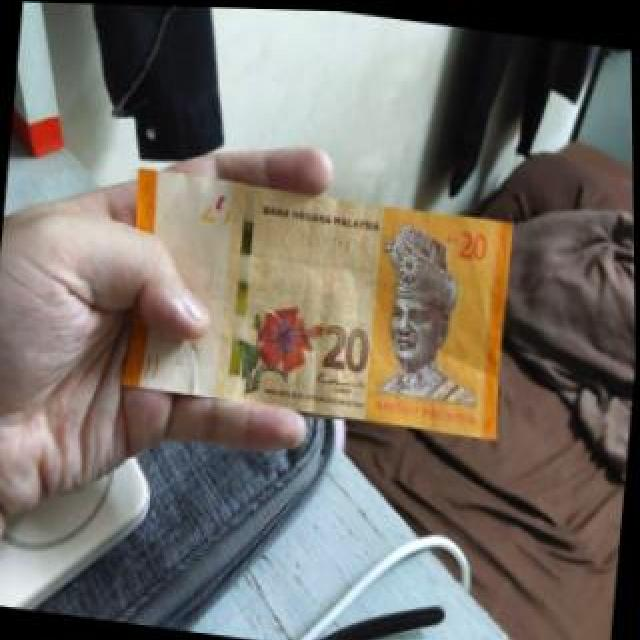20 Ringgit: (110, 170, 515, 438)
